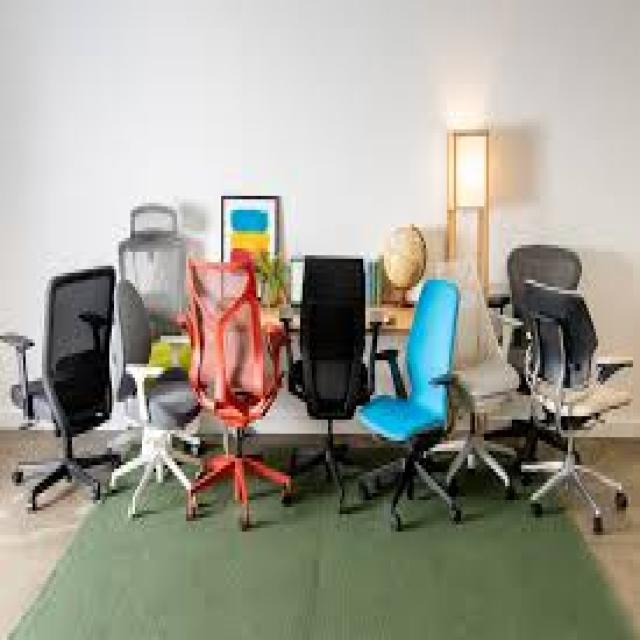chair: (493, 269, 640, 584), (170, 243, 297, 557), (274, 226, 387, 547), (348, 266, 478, 545), (483, 235, 616, 482), (0, 260, 117, 540), (408, 255, 524, 536), (109, 262, 204, 564)
